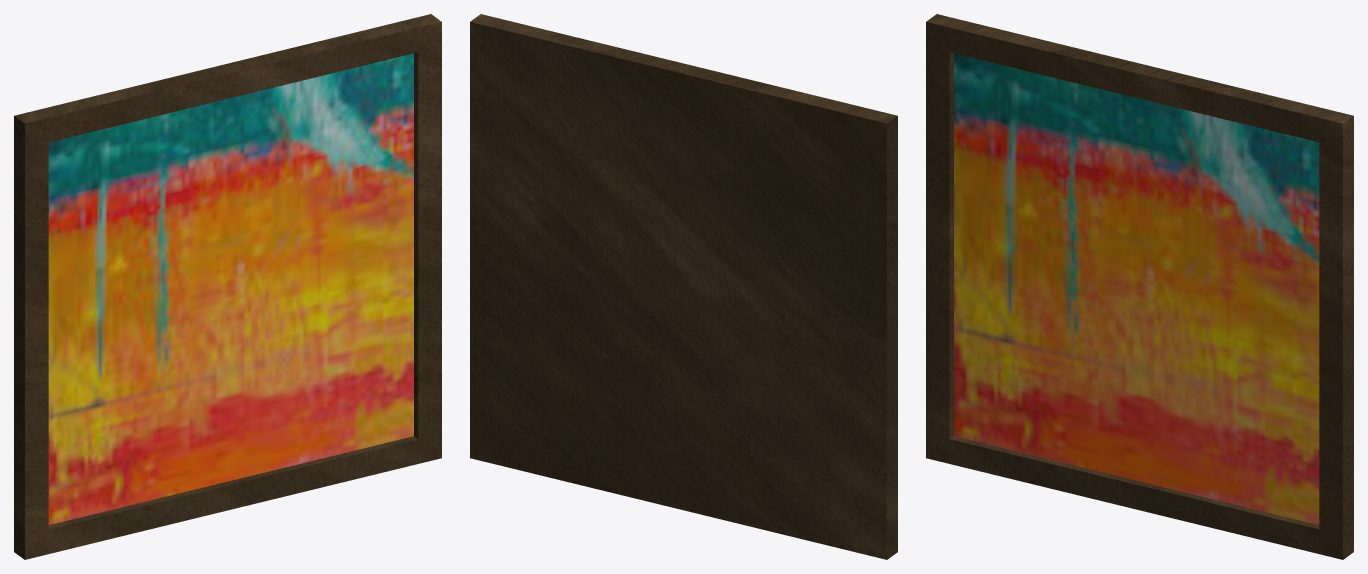
Rendered from cadre.fbx.
3 views of the same model, side by side, from view 1: azimuth 30°, elevation 25°; view 2: azimuth 150°, elevation 25°; view 3: azimuth 330°, elevation 25° (orthographic).
Visible parts, largest first — view 1: Cadre; view 2: Cadre; view 3: Cadre.
Part boxes in pixels (x1,y1,x2,y2): Cadre: [14, 14, 441, 559]; Cadre: [470, 14, 897, 559]; Cadre: [926, 14, 1353, 559].
Size of the model in its own units: 146 by 146 by 6.48.
